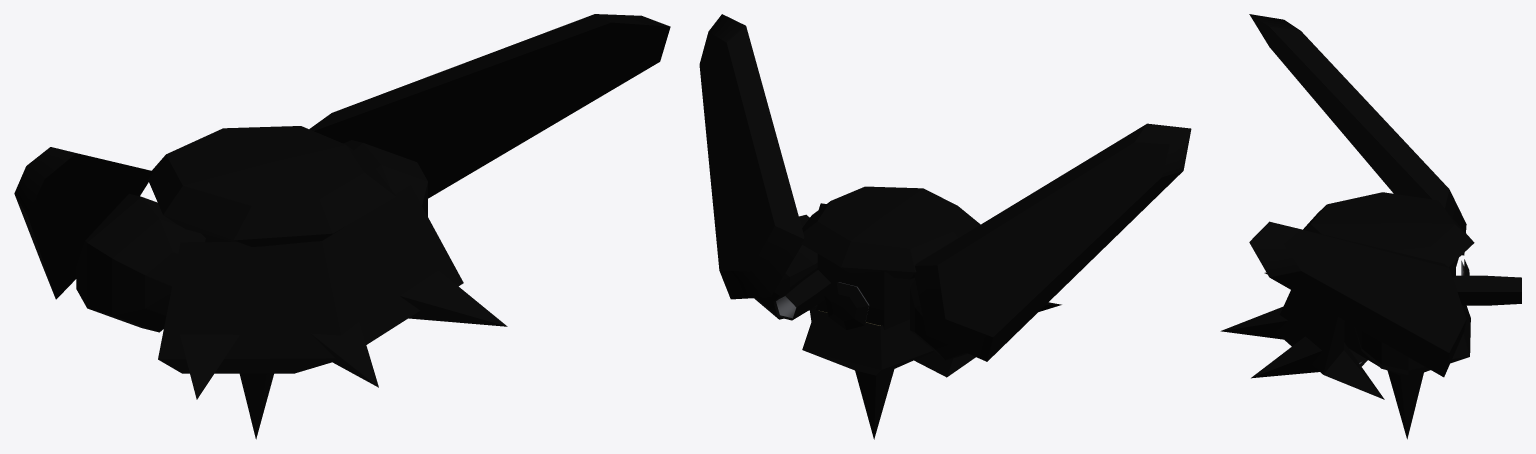
The model's file is DroneGrunt.fbx.
The picture shows the model from 3 angles, left to right: view 1: azimuth 30°, elevation 25°; view 2: azimuth 150°, elevation 25°; view 3: azimuth 270°, elevation 25°; orthographic projection. The views are drawn at different scales.
Visible parts, largest first — view 1: polySurface20; view 2: polySurface20; view 3: polySurface20.
Boxes of the visible parts, x1=… form: polySurface20: x1=14, y1=14, x2=670, y2=439; polySurface20: x1=699, y1=14, x2=1191, y2=439; polySurface20: x1=1220, y1=14, x2=1521, y2=439.
Size of the model in its own units: 22.35 by 14.21 by 12.37.
